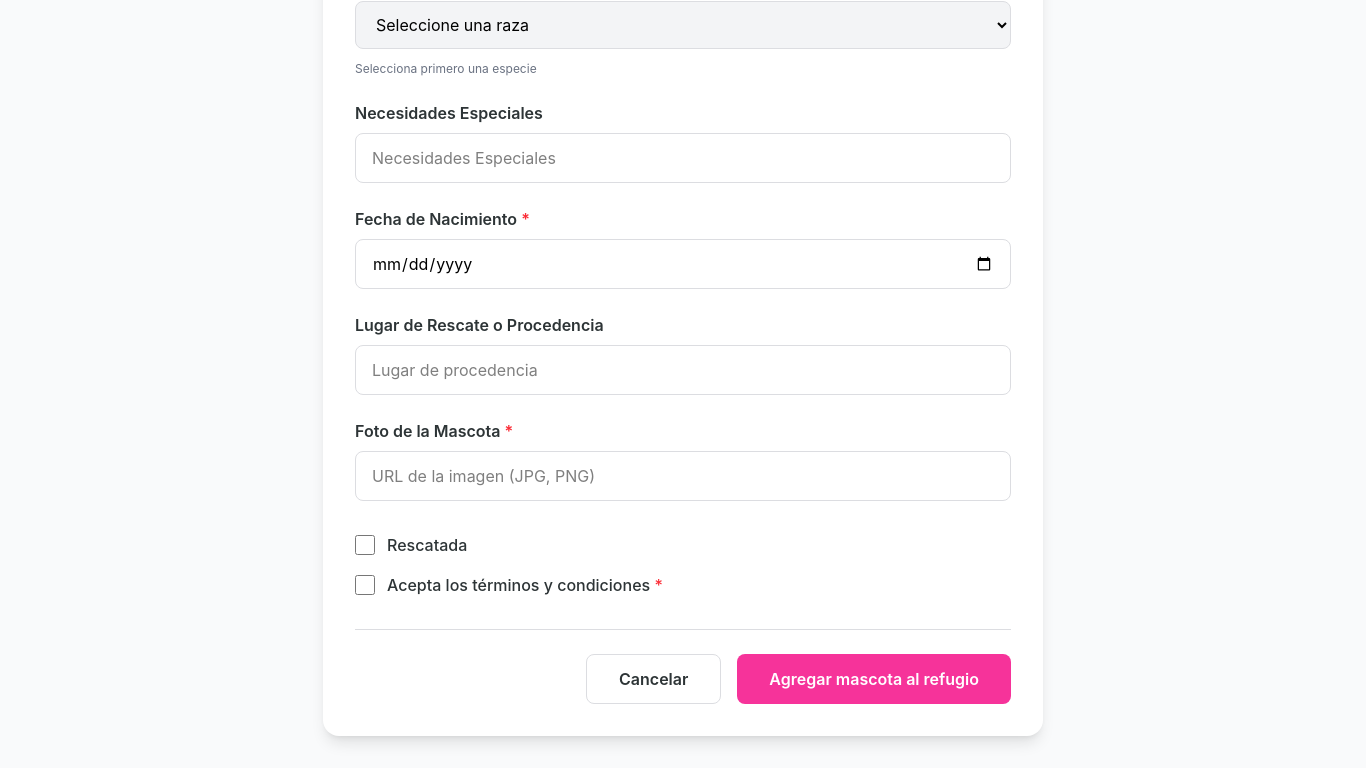
Test: CreatePetScreen › shows validation errors when submitting empty form
The image size is (1366, 768).
(page scrolled)
What coordinates should you click on to do the following:
click the button "Agregar mascota al refugio"
I would click on:
 (874, 679)
Its box is [737,654,1011,704].
(page scrolled)
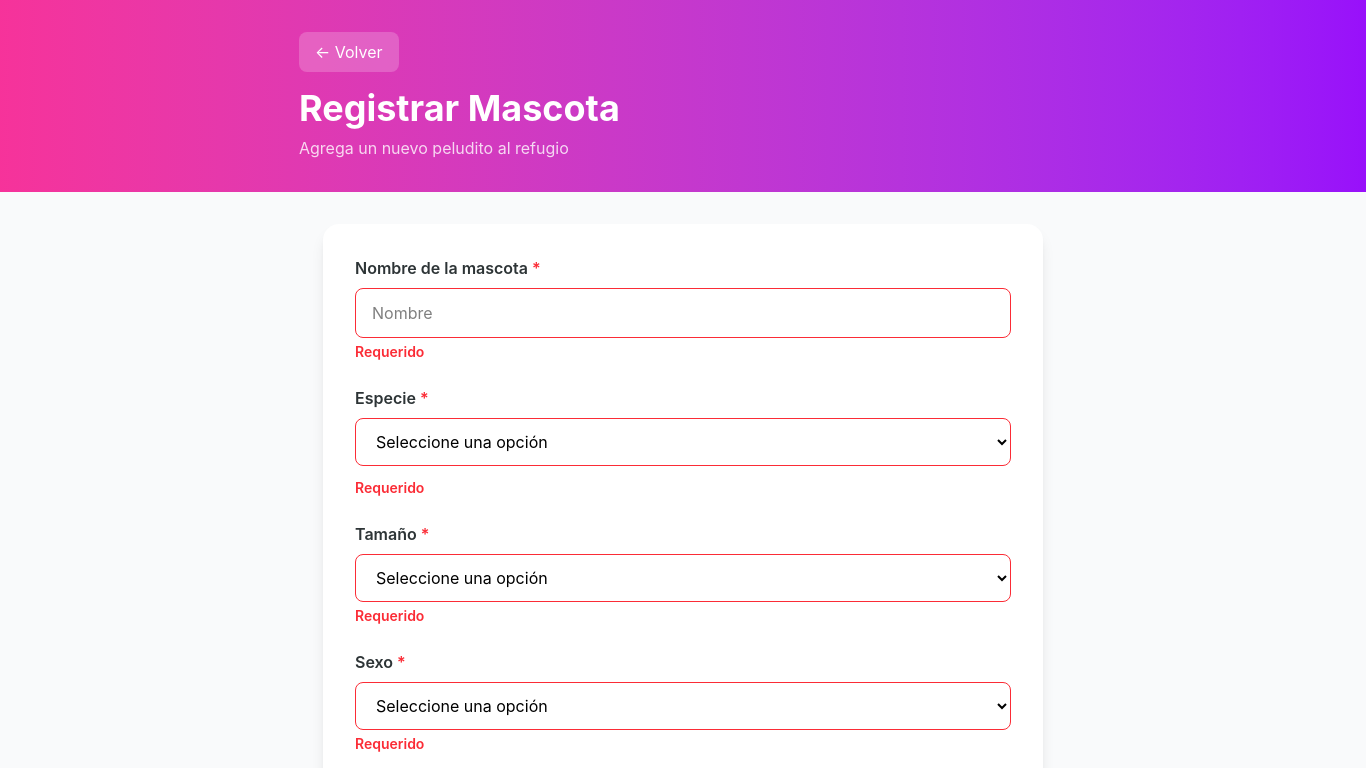
Expected: the text "Requerido" below "Nombre de la mascota" is shown, [355,343,424,360]
